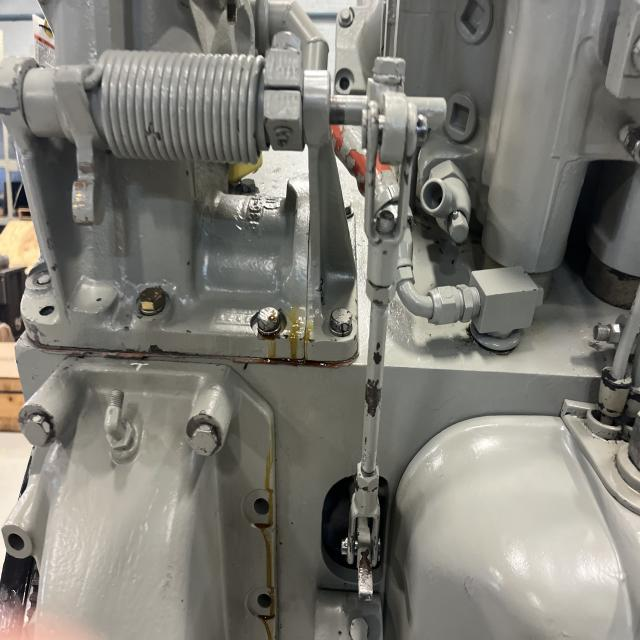Oil Leak: (239, 422, 282, 640), (242, 302, 289, 357), (285, 308, 308, 356)
